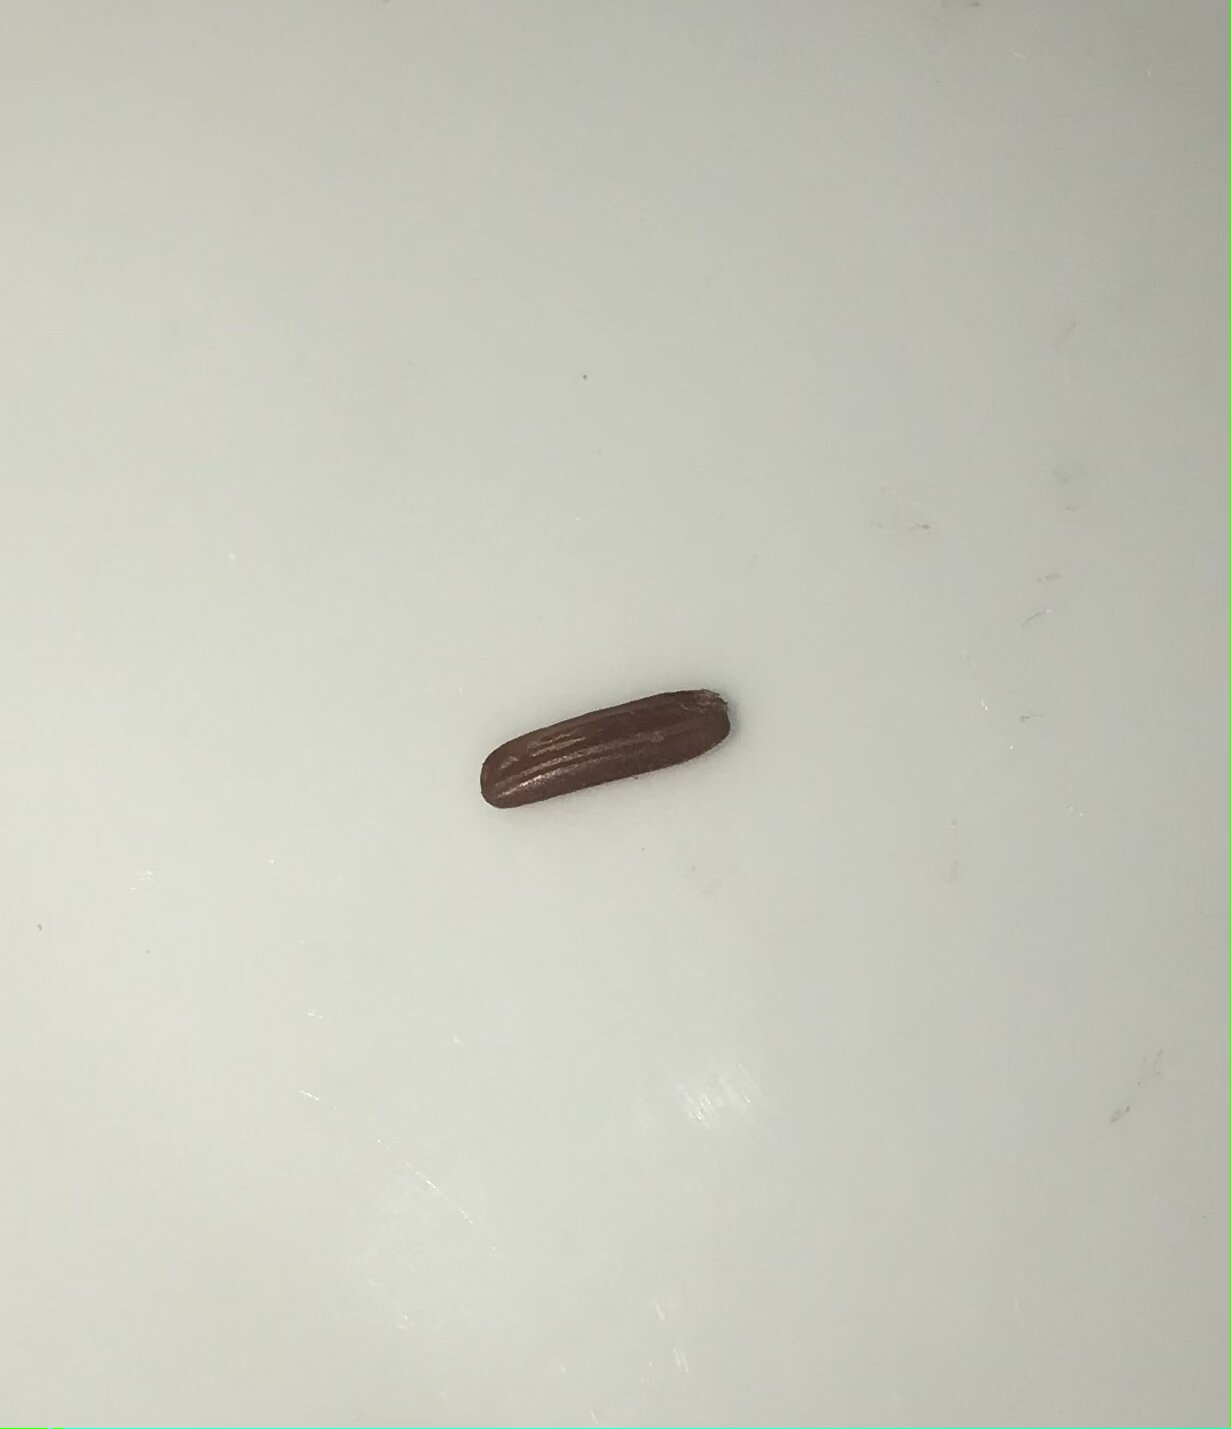Gao Huyet Rong: (480, 672, 736, 809)
